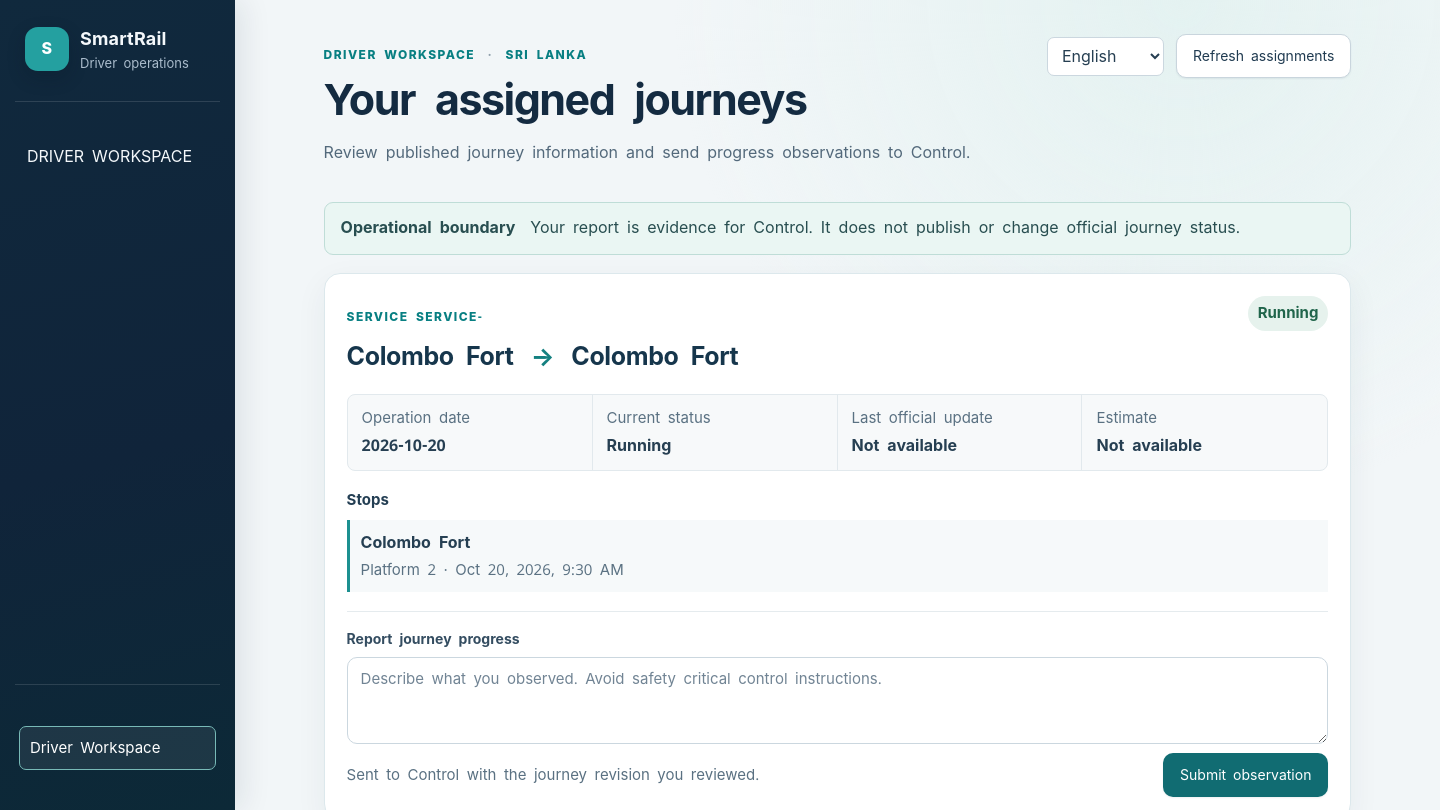
it: driver workspace › loads own assignments and submits a non-authoritative observation
The image size is (1440, 810).
expect the text "Colombo Fort" is shown: met, box left=361, top=532, right=470, bottom=552
Type "Arrived at the assigned stop" into the text box labelled "Report journey progress". click: (838, 701)
box: left=347, top=657, right=1328, bottom=744
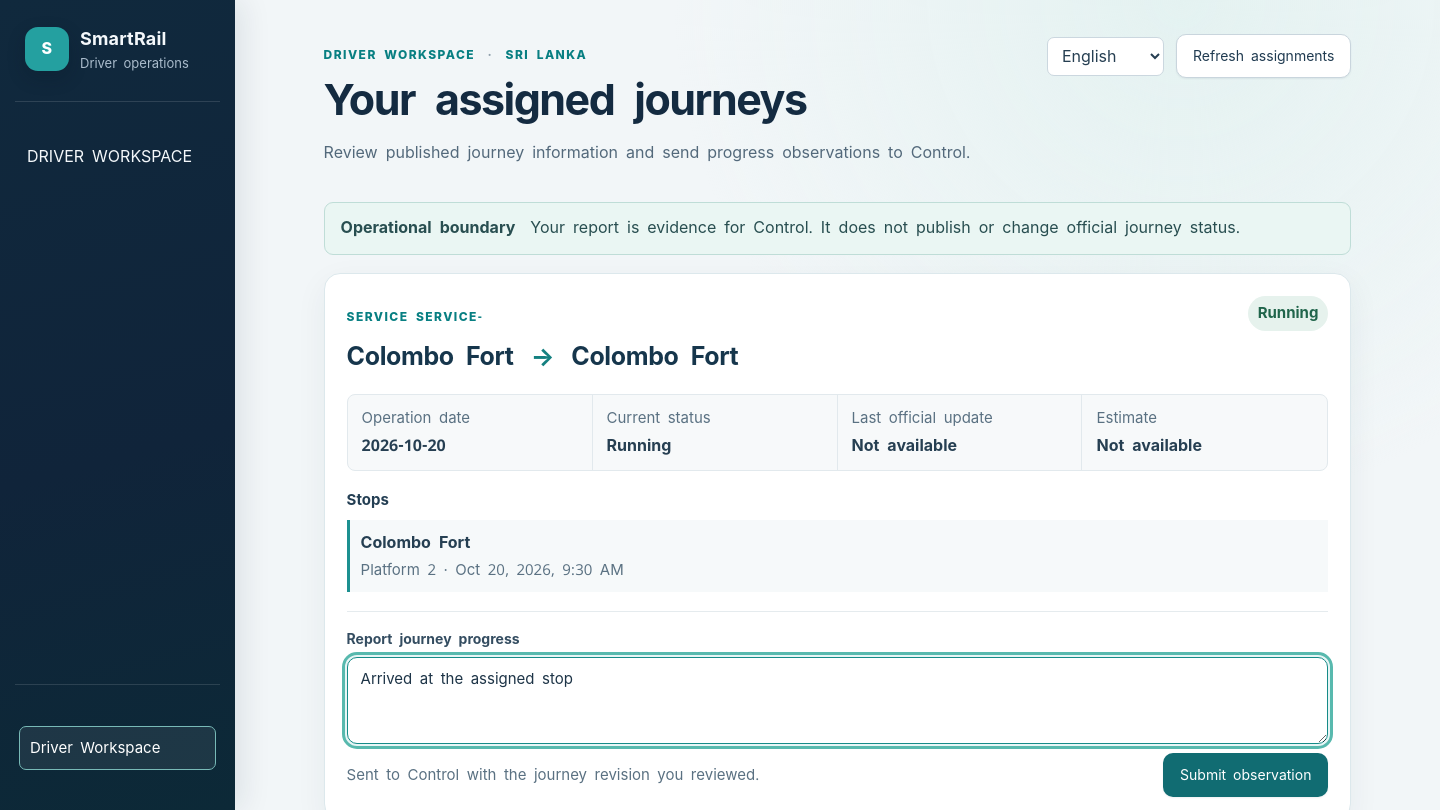
Click the button "Submit observation". click: (1246, 775)
box: left=1163, top=753, right=1328, bottom=797
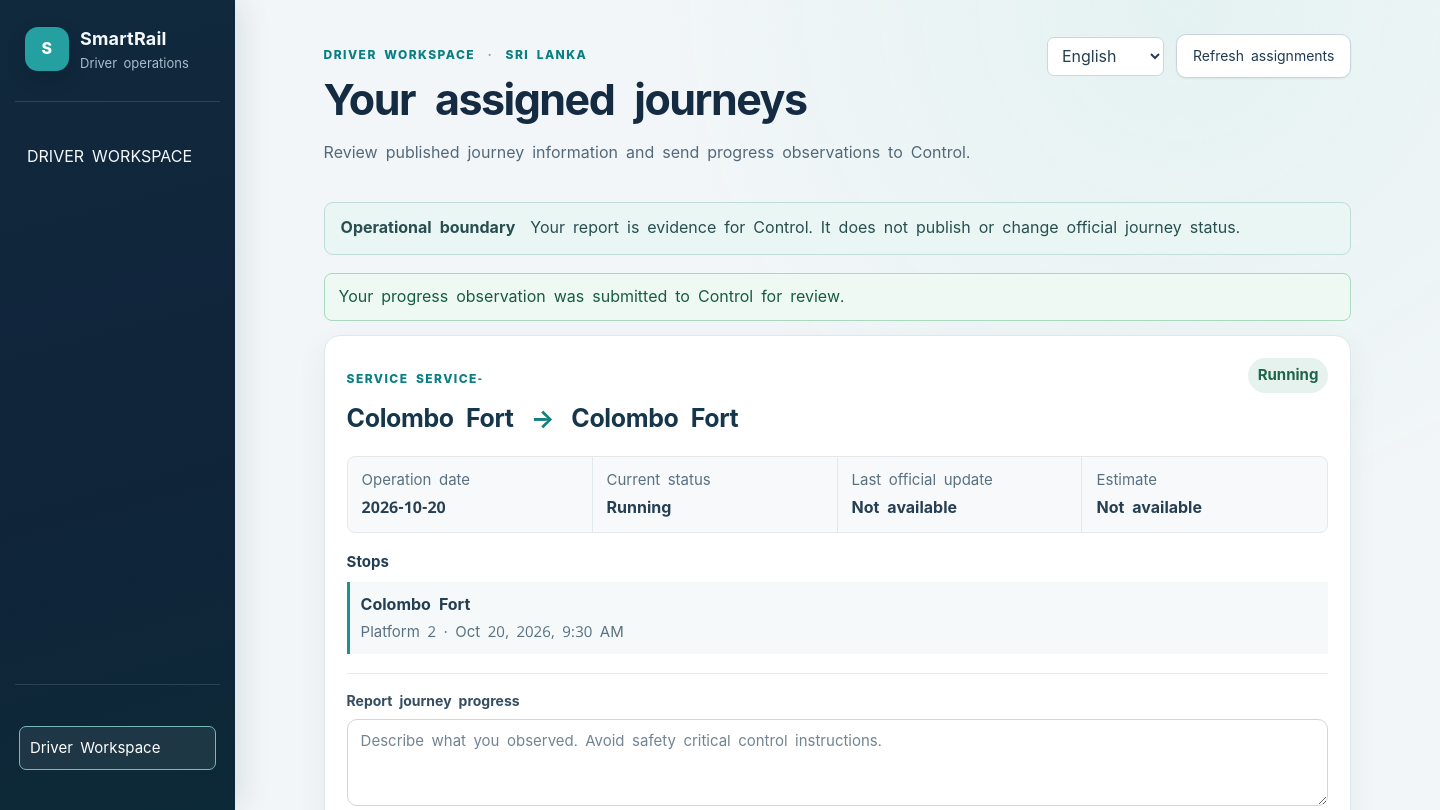
expect the message shows "submitted to Control": met, box left=339, top=286, right=844, bottom=307
